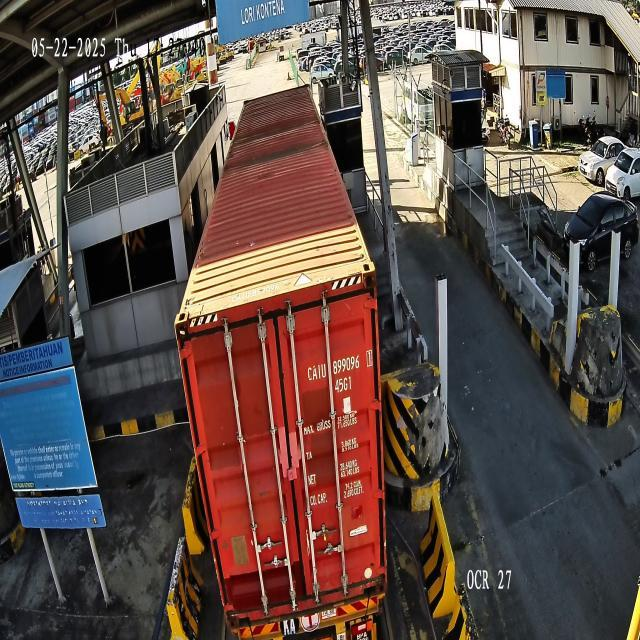ISO: (334, 375, 359, 395)
container_number: (306, 344, 378, 384)
